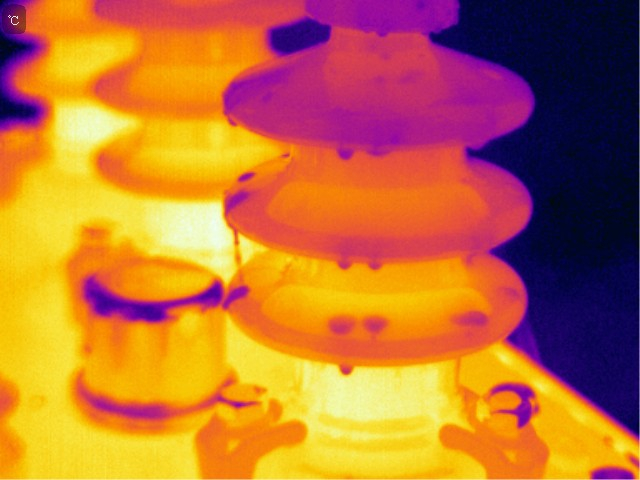Water: (224, 224, 253, 287), (218, 91, 243, 129), (221, 283, 251, 312), (362, 311, 392, 340), (328, 310, 358, 336), (457, 307, 489, 330), (365, 137, 393, 162), (464, 130, 490, 156), (229, 188, 249, 213), (332, 143, 358, 160), (235, 169, 259, 184), (364, 257, 385, 271), (337, 361, 356, 376), (335, 256, 352, 271), (374, 24, 392, 38)
